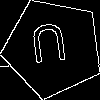U: (28, 23, 70, 72)
